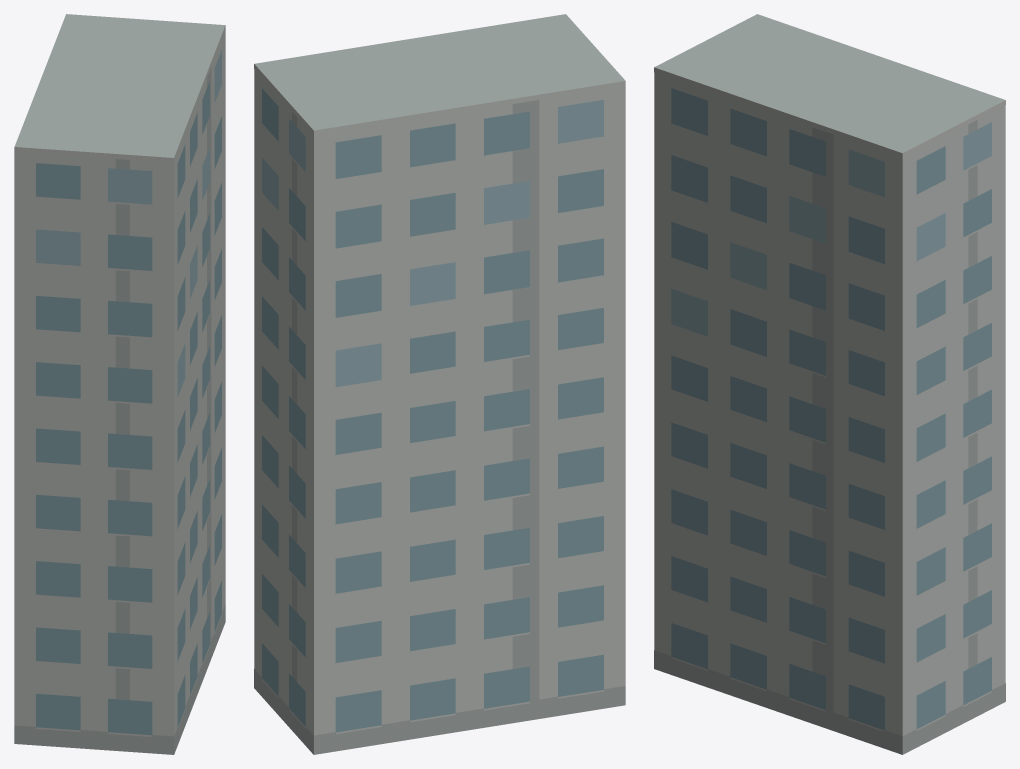
File: residential-32195258-e4b3-495b-b799-5d6f5bc735a0.glb
The picture shows the model from 3 angles, left to right: view 1: azimuth 30°, elevation 25°; view 2: azimuth 150°, elevation 25°; view 3: azimuth 270°, elevation 25°; orthographic projection. The views are drawn at different scales.
Parts seen in each view (by area): view 1: residential-32195258-e4b3-495b-b799-5d6f5bc735a0.tmp; view 2: residential-32195258-e4b3-495b-b799-5d6f5bc735a0.tmp; view 3: residential-32195258-e4b3-495b-b799-5d6f5bc735a0.tmp.
Boxes of the visible parts, x1,y1,x2,y2 form: residential-32195258-e4b3-495b-b799-5d6f5bc735a0.tmp: [14, 14, 225, 754]; residential-32195258-e4b3-495b-b799-5d6f5bc735a0.tmp: [254, 14, 625, 754]; residential-32195258-e4b3-495b-b799-5d6f5bc735a0.tmp: [654, 14, 1005, 754].
Size of the model in its own units: 14.4 by 29 by 15.37.
